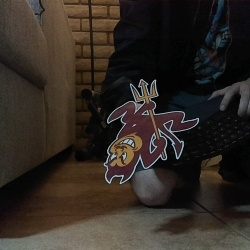sparky: (102, 78, 199, 184)
